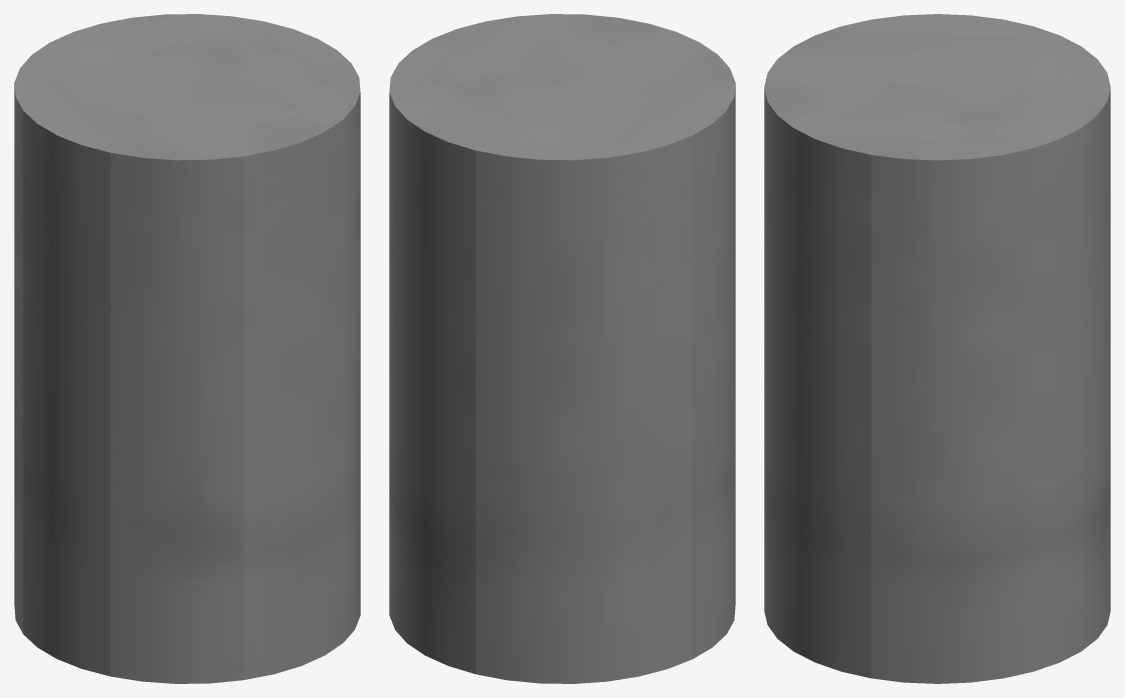
File: base__rear_pivot_cap_1.glb
The picture shows the model from 3 angles, left to right: view 1: azimuth 30°, elevation 25°; view 2: azimuth 150°, elevation 25°; view 3: azimuth 270°, elevation 25°; orthographic projection.
Parts seen in each view (by area): view 1: world; view 2: world; view 3: world.
Boxes of the visible parts, box(x1,y1,x2,y2) form: world: box(14, 14, 360, 683); world: box(389, 14, 735, 683); world: box(764, 14, 1110, 683).
Bounding box in the file's own units: 0.024 × 0.04 × 0.024.
Materials: 1 (1 with a texture image).
